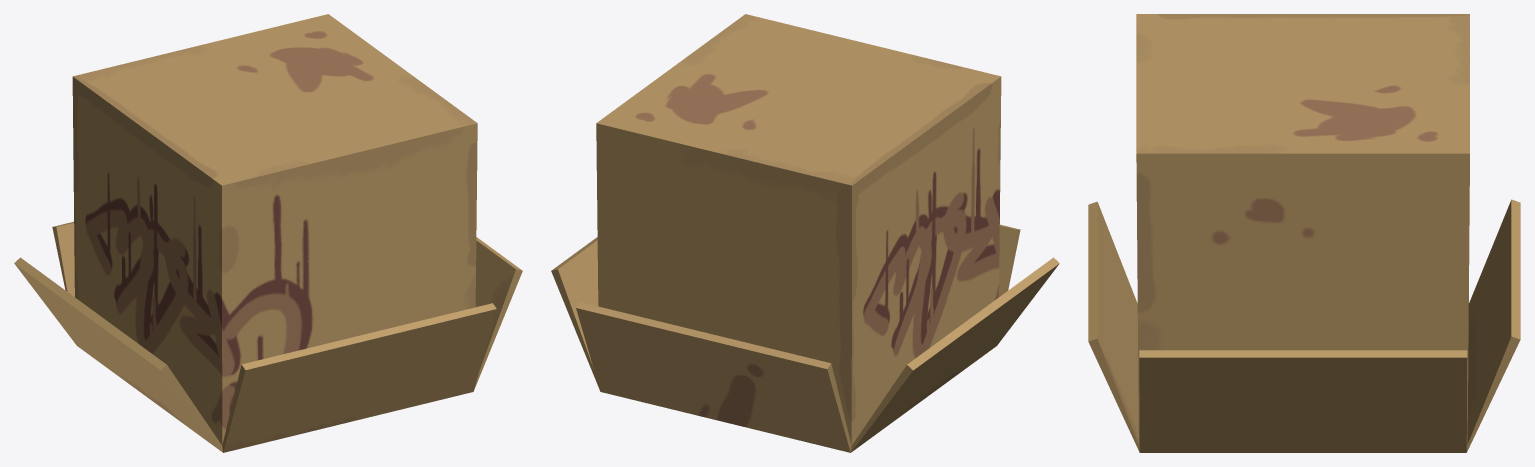
Rendered from Box_1_paint.fbx.
The picture shows the model from 3 angles, left to right: view 1: azimuth 30°, elevation 25°; view 2: azimuth 150°, elevation 25°; view 3: azimuth 270°, elevation 25°; orthographic projection. The views are drawn at different scales.
Parts seen in each view (by area): view 1: Box_1; view 2: Box_1; view 3: Box_1.
Boxes of the visible parts, x1,y1,x2,y2 form: Box_1: [14, 14, 522, 452]; Box_1: [551, 14, 1059, 452]; Box_1: [1088, 14, 1520, 452].
Size of the model in its own units: 141 by 100 by 131.
